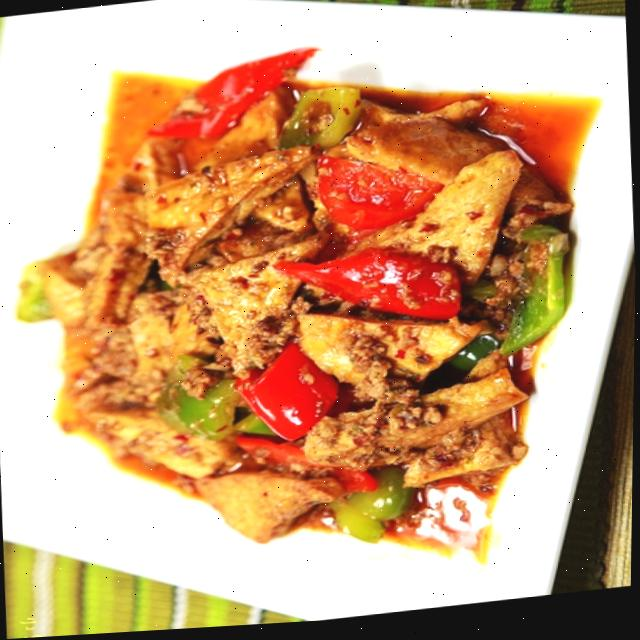豆腐料理: (5, 0, 628, 633)
